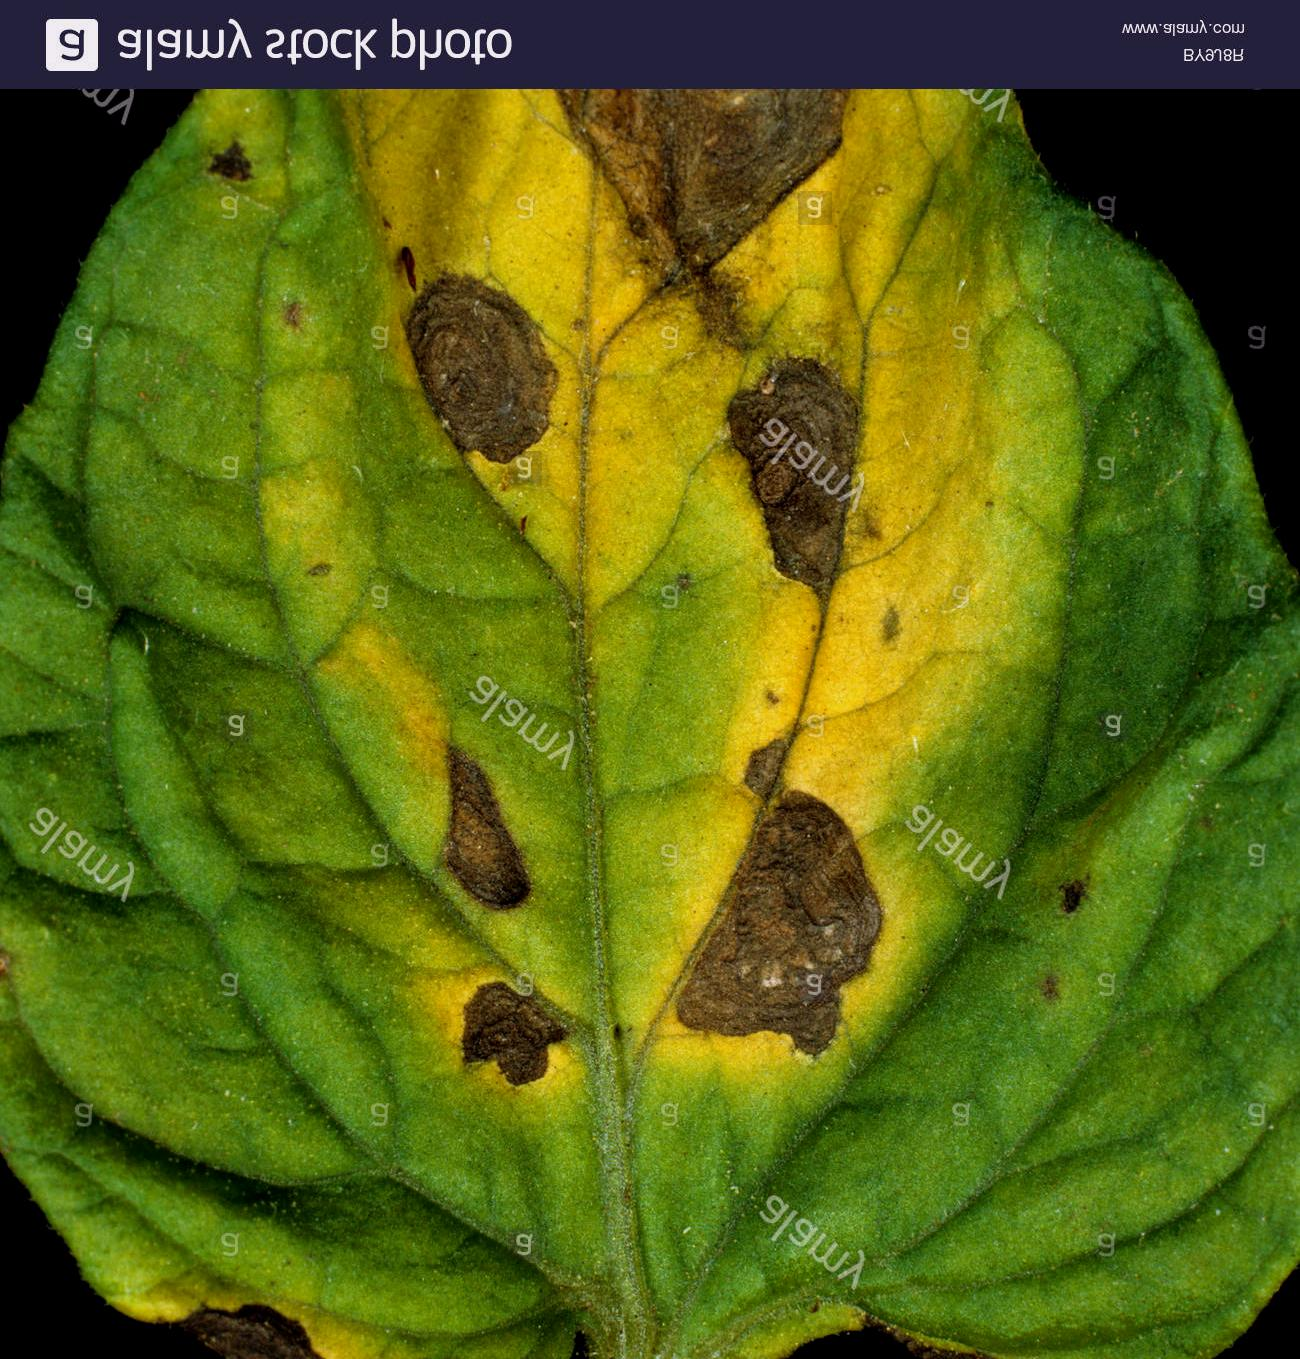Tomato Early blight leaf: (49, 101, 1275, 1331)
